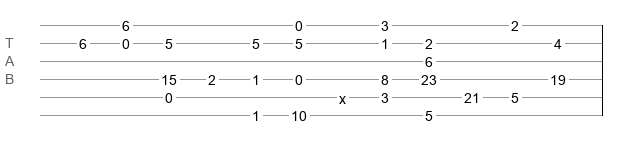0: (122, 36, 130, 46), (165, 90, 173, 100), (295, 18, 303, 28), (295, 72, 303, 82)
1: (252, 108, 260, 118), (252, 72, 260, 82), (381, 36, 389, 46)
10: (291, 108, 307, 118)
15: (161, 72, 177, 82)
19: (550, 72, 566, 82)
2: (208, 72, 216, 82), (425, 36, 433, 46), (511, 18, 519, 28)
21: (464, 90, 480, 100)
23: (421, 72, 437, 82)
3: (381, 90, 389, 100), (381, 18, 389, 28)
4: (554, 36, 562, 46)
5: (165, 36, 173, 46), (252, 36, 260, 46), (295, 36, 303, 46), (425, 108, 433, 118), (511, 90, 519, 100)
6: (79, 36, 87, 46), (122, 18, 130, 28), (425, 54, 433, 64)
8: (381, 72, 389, 82)
x: (339, 91, 346, 99)
